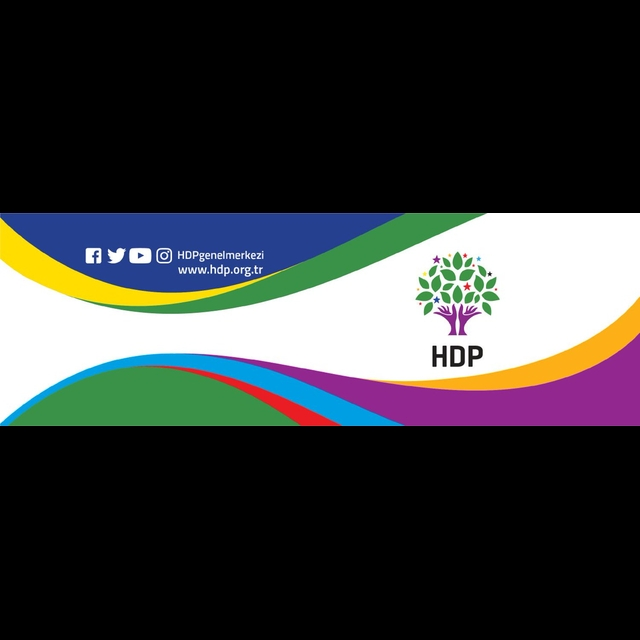HDP: (417, 252, 504, 337)
